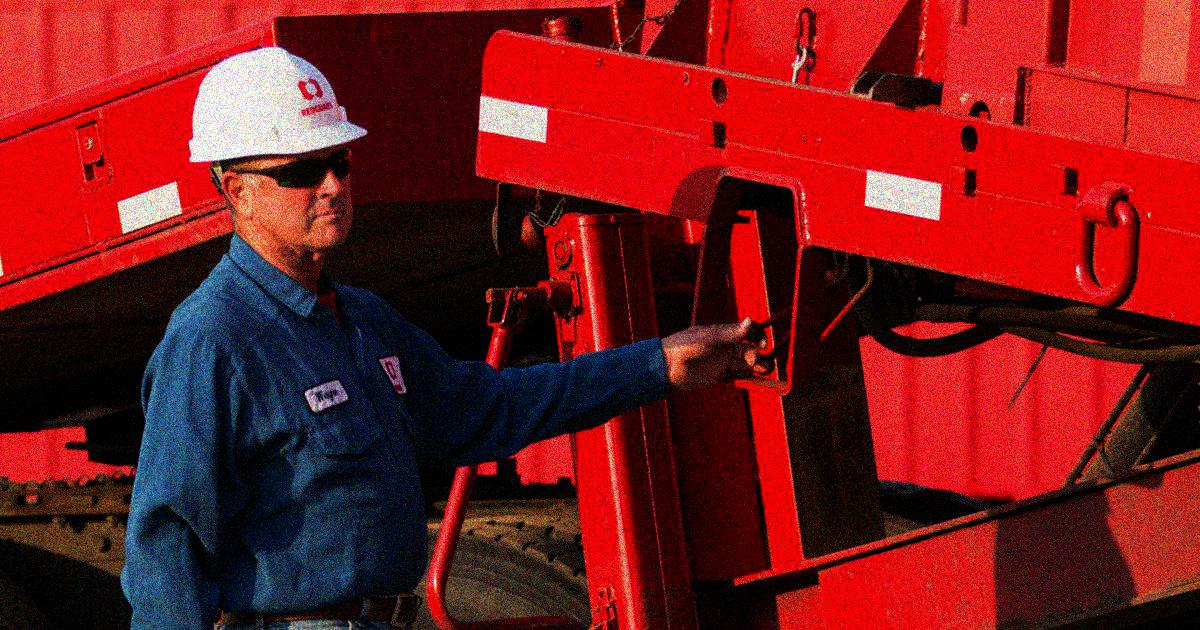helmet: (188, 42, 372, 256)
